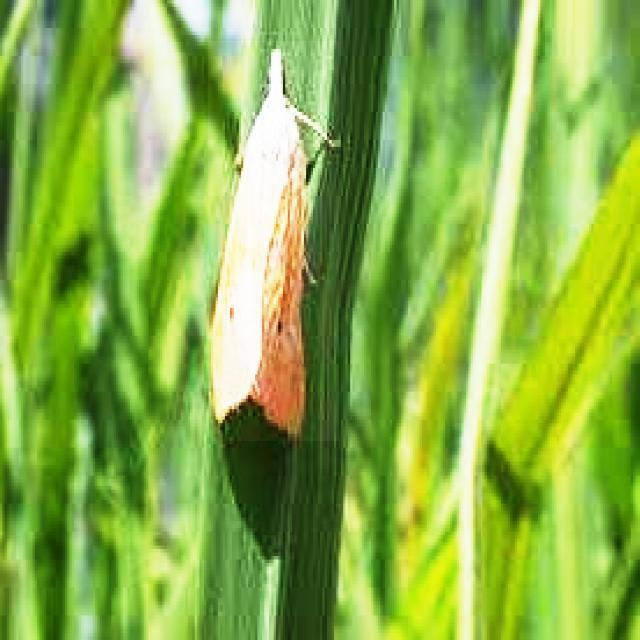stem-borer: (208, 41, 339, 441)
